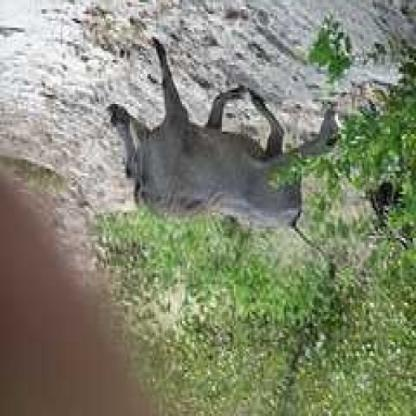boar: (43, 69, 399, 228)
